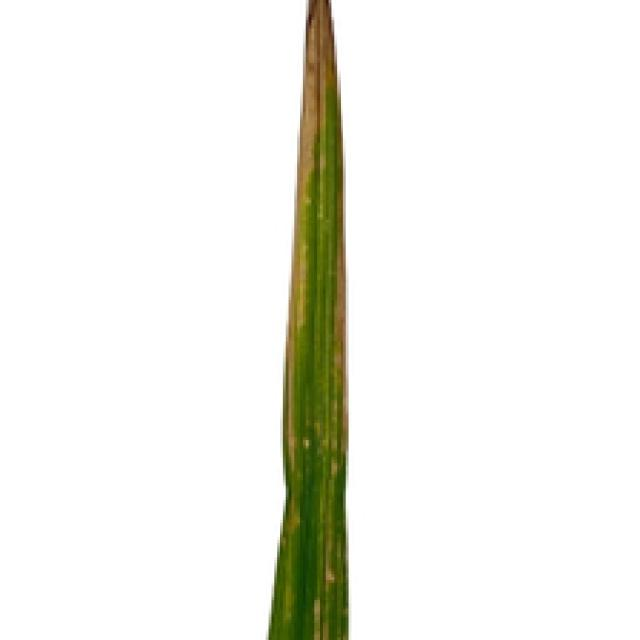Rice___Bacterial_Leaf_Blight: (268, 0, 353, 637)
